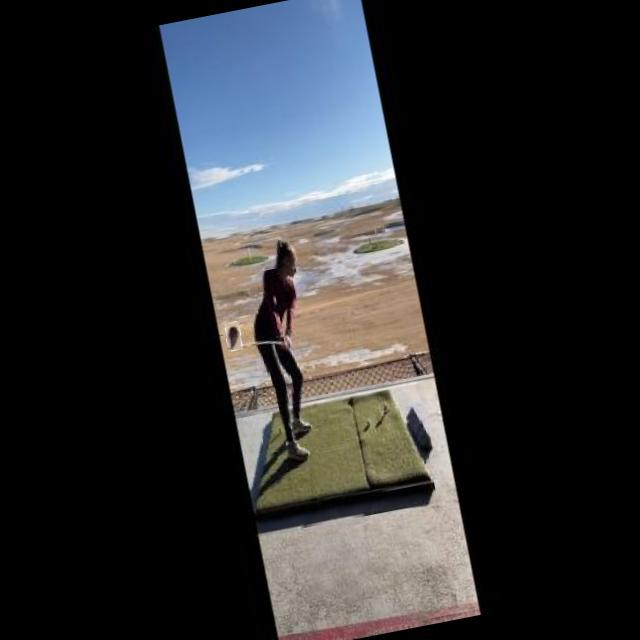club head: (224, 322, 244, 352)
